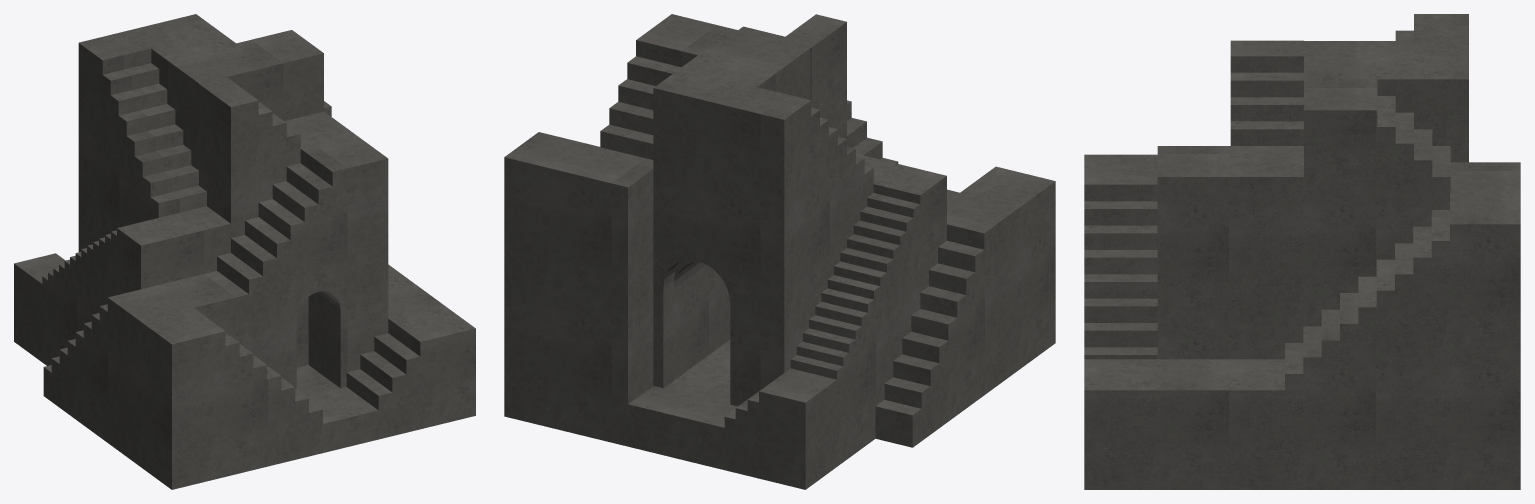
The model's file is Geometric_Block.glb.
The picture shows the model from 3 angles, left to right: view 1: azimuth 30°, elevation 25°; view 2: azimuth 150°, elevation 25°; view 3: azimuth 270°, elevation 25°; orthographic projection. The views are drawn at different scales.
Visible parts, largest first — view 1: Line004_14 - Polished Aluminum_0; view 2: Line004_14 - Polished Aluminum_0; view 3: Line004_14 - Polished Aluminum_0.
Part boxes in pixels (<box>): Line004_14 - Polished Aluminum_0: <box>14,14,475,489</box>; Line004_14 - Polished Aluminum_0: <box>504,14,1055,489</box>; Line004_14 - Polished Aluminum_0: <box>1084,14,1520,489</box>.
Bounding box in the file's own units: 5.55 × 5.33 × 6.05.
1 material, 1 textured.
